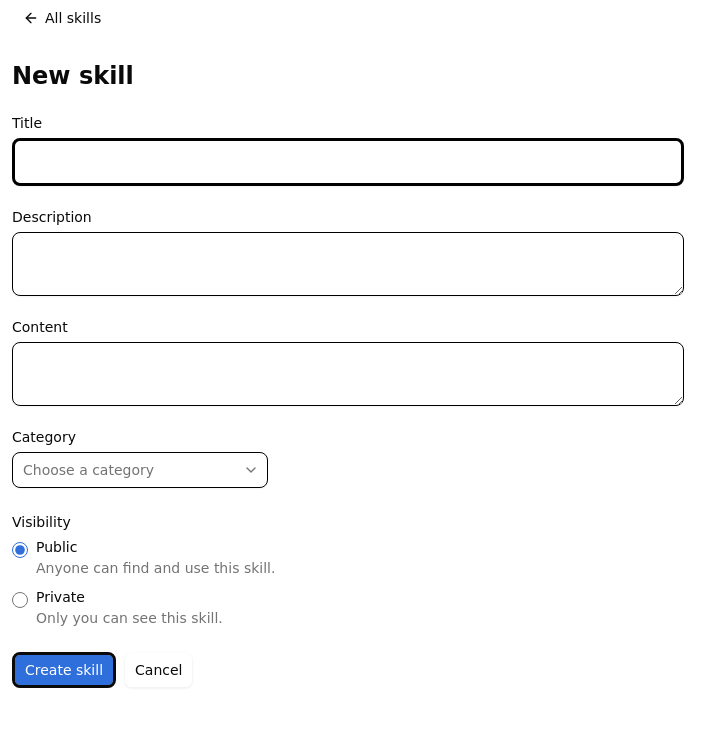
Create skill page › shows the API error and keeps the form editable
Type "Draft an email" into the field labelled "Title".
click(348, 162); type("Draft an email")  # box [12,138,684,186]
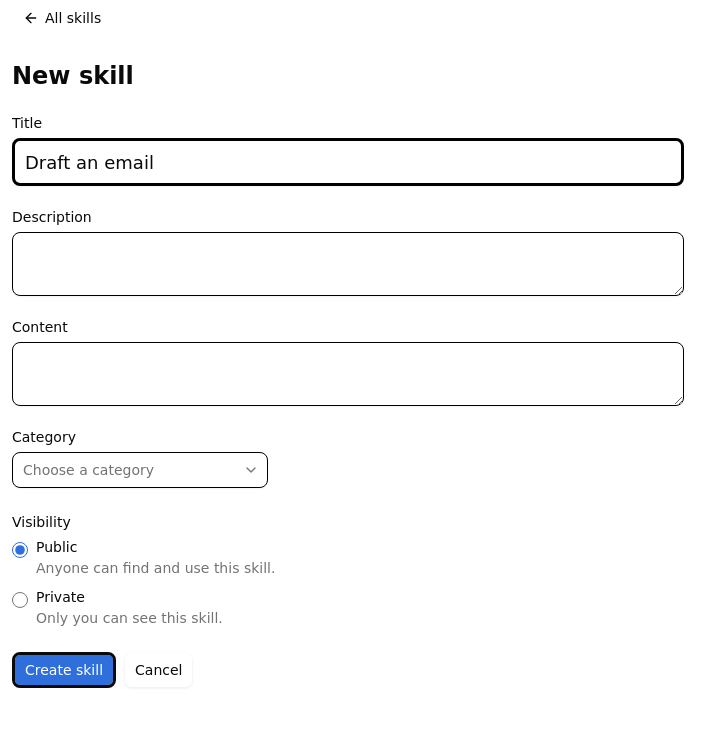
Type "Writes polite emails" into the text box labelled "Description".
click(348, 264); type("Writes polite emails")  # box [12,232,684,296]
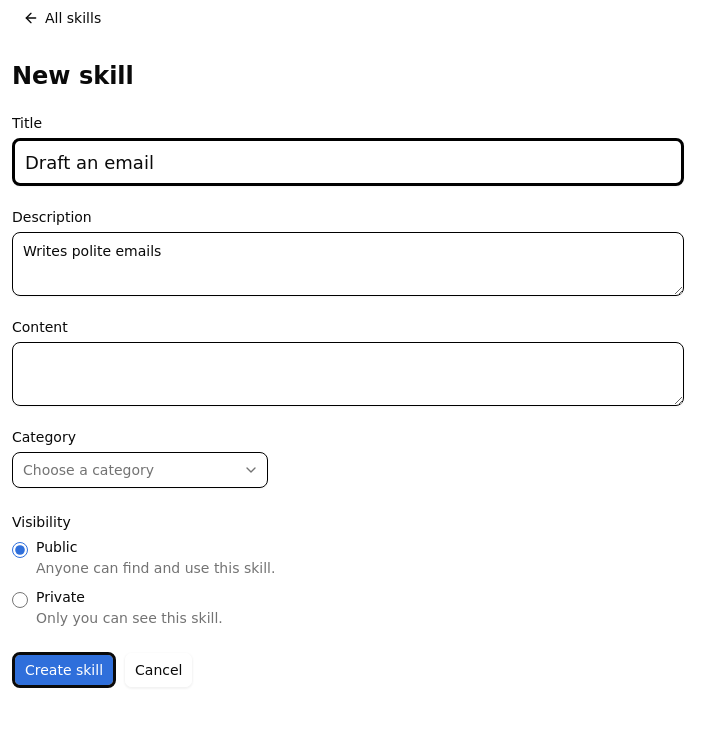
Type "You write emails." into the text box labelled "Content".
click(348, 374); type("You write emails.")  # box [12,342,684,406]
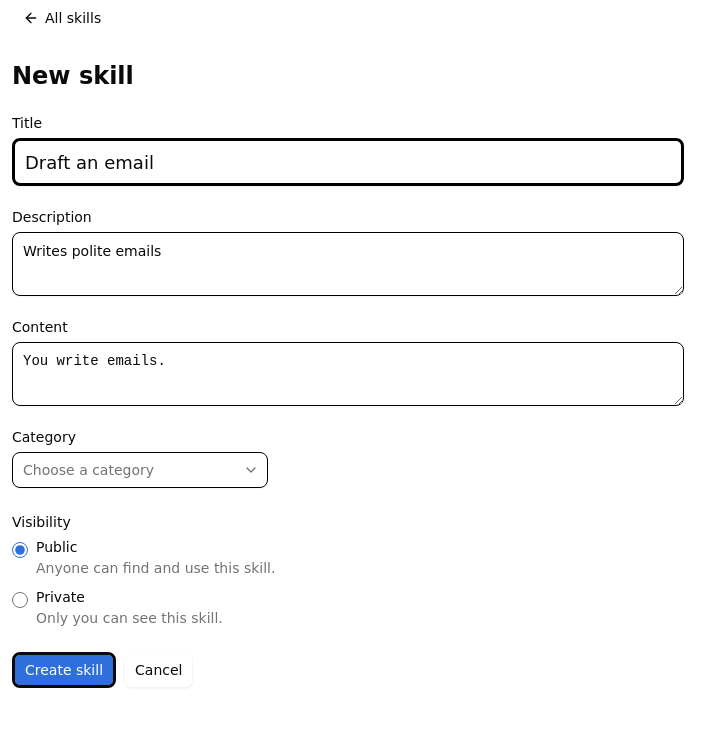
Click the dropdown labelled "category".
click(140, 470)  # box [12,452,268,488]
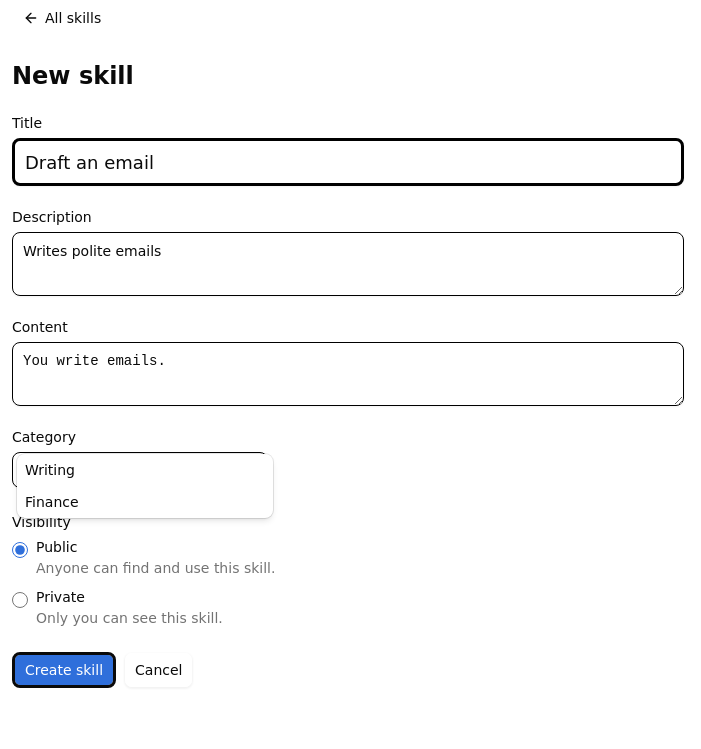
Click the option "Writing".
click(50, 470)  # box [25,462,75,478]
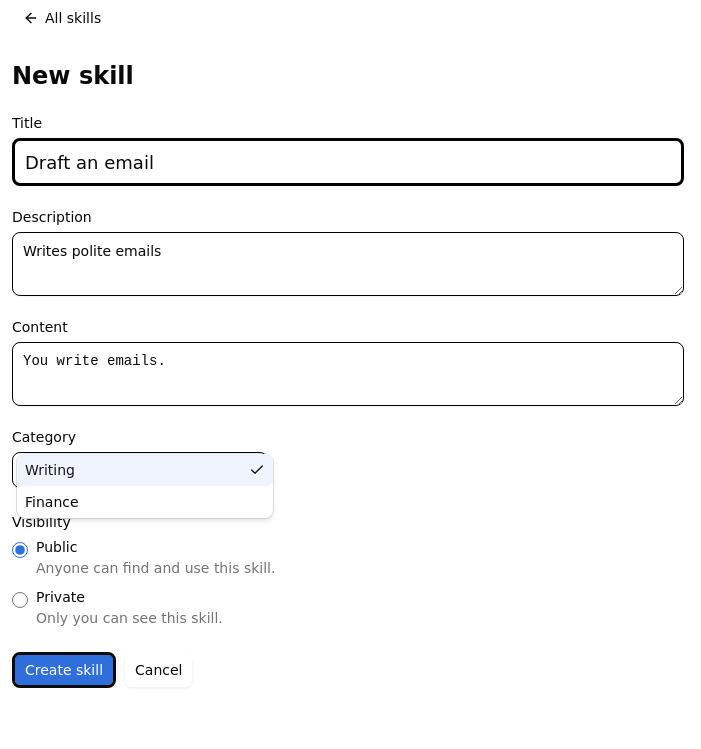
Click the button "Create skill".
click(64, 670)  # box [12,652,116,688]
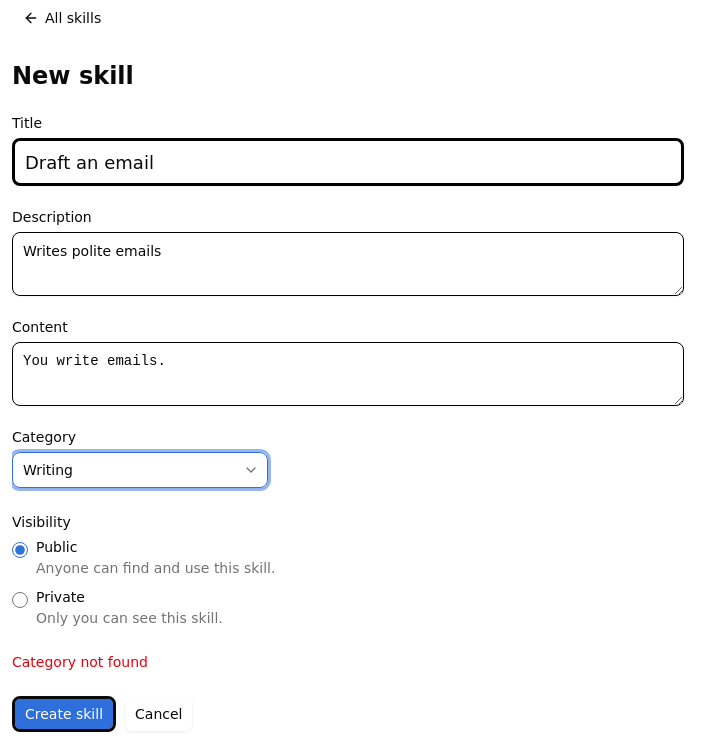
Check: the button "Create skill" is enabled, box [12,696,116,732]
Check: the message reads "Category not found", box [12,654,148,670]
